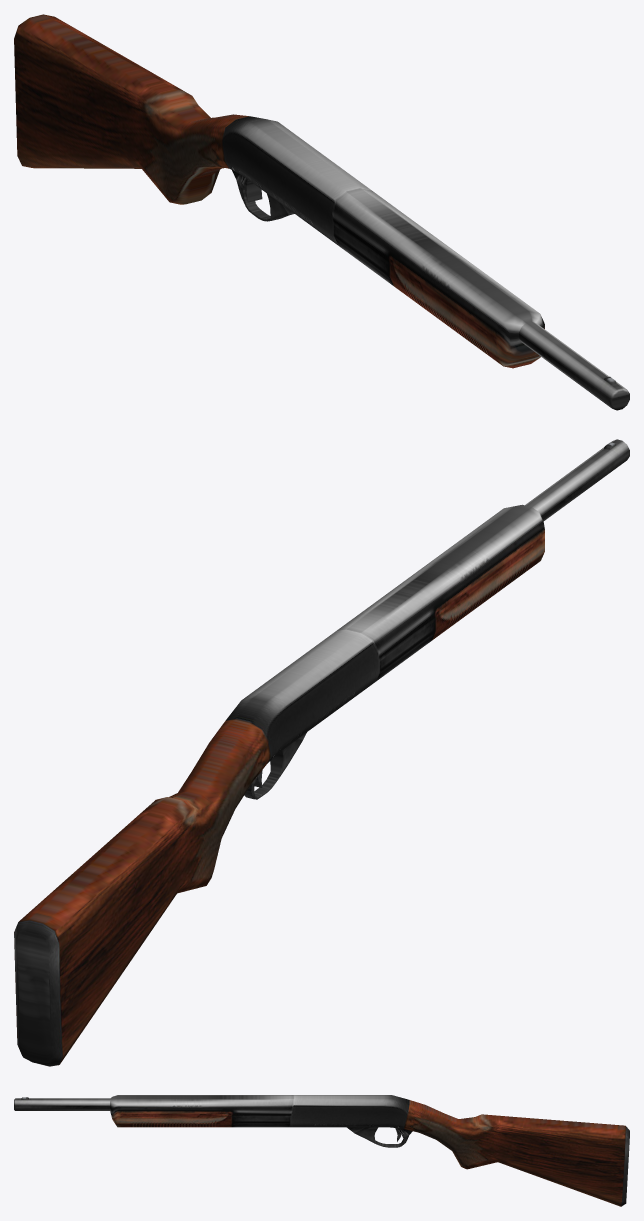
File: shotgun.fbx
3 renders of one model, top to bottom at view 1: azimuth 30°, elevation 25°; view 2: azimuth 150°, elevation 25°; view 3: azimuth 270°, elevation 25°, orthographic. The views are drawn at different scales.
Parts seen in each view (by area): view 1: Shotgun; view 2: Shotgun; view 3: Shotgun.
Part boxes in pixels (bbox=[...]): Shotgun: bbox=[14, 14, 629, 410]; Shotgun: bbox=[14, 439, 629, 1066]; Shotgun: bbox=[14, 1095, 629, 1206].
Bounding box in the file's own units: 0.3258 × 1.39 × 7.23.
1 material, 1 textured.
